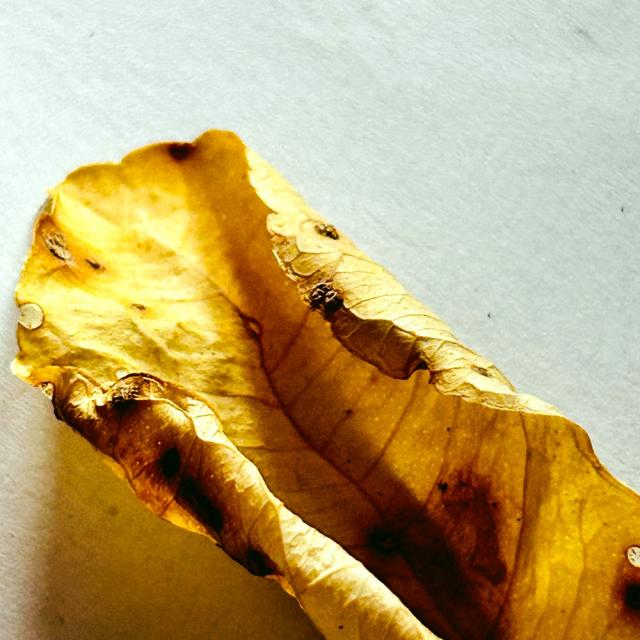DryLeaf_Lemon: (13, 131, 639, 639)
